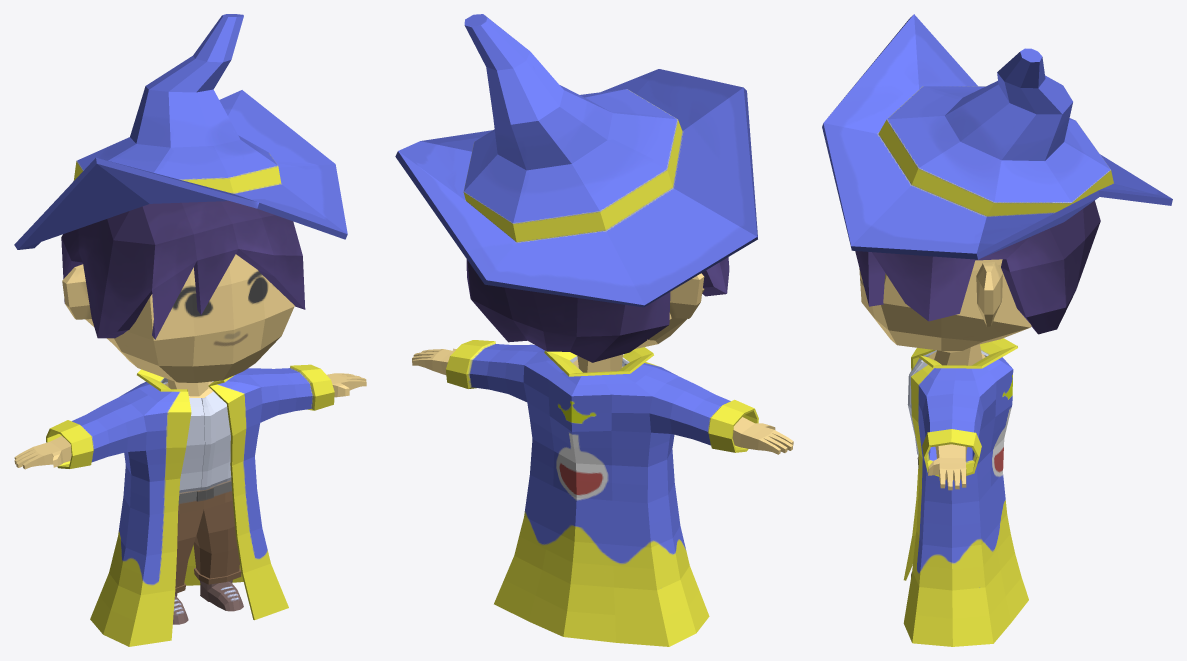
Rendered from Karakter_rev2.fbx.
The picture shows the model from 3 angles, left to right: view 1: azimuth 30°, elevation 25°; view 2: azimuth 150°, elevation 25°; view 3: azimuth 270°, elevation 25°; orthographic projection. The views are drawn at different scales.
Parts seen in each view (by area): view 1: Body; view 2: Body; view 3: Body.
Boxes of the visible parts, bbox=[...] form: Body: bbox=[14, 14, 366, 646]; Body: bbox=[395, 14, 793, 646]; Body: bbox=[822, 14, 1172, 646].
Size of the model in its own units: 344 by 524 by 282.
Materials: 1 (1 with a texture image).
